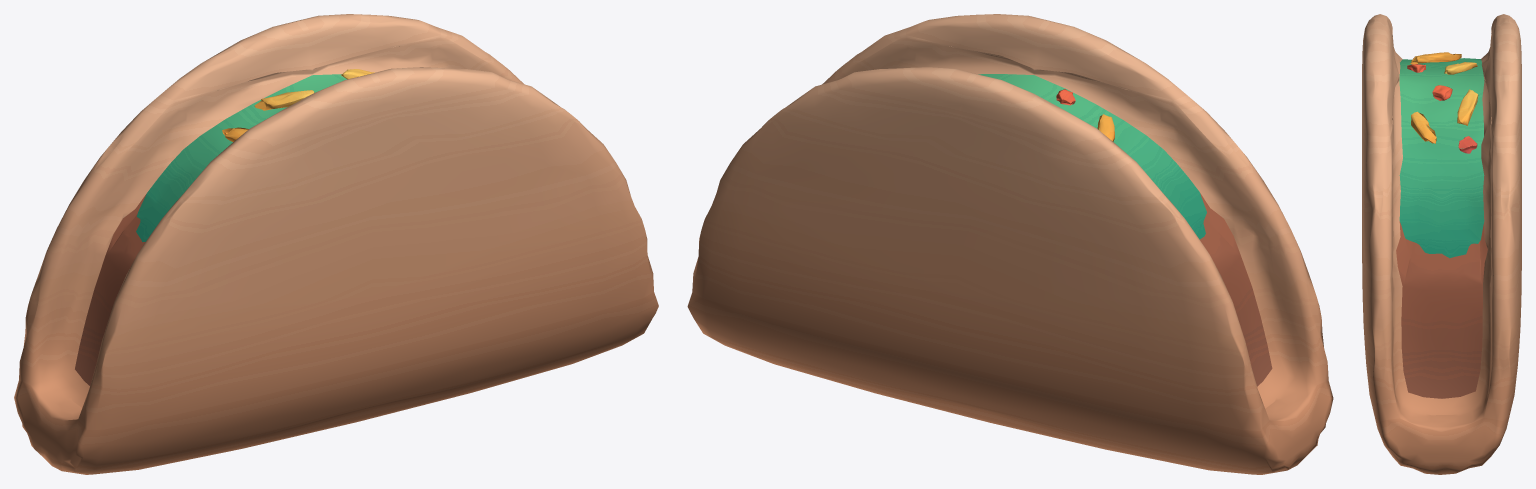
3 views of the same model, side by side, from view 1: azimuth 30°, elevation 25°; view 2: azimuth 150°, elevation 25°; view 3: azimuth 270°, elevation 25° (orthographic). The views are drawn at different scales.
Size of the model in its own units: 1 by 0.6024 by 0.2679.
1 material, 1 textured.
